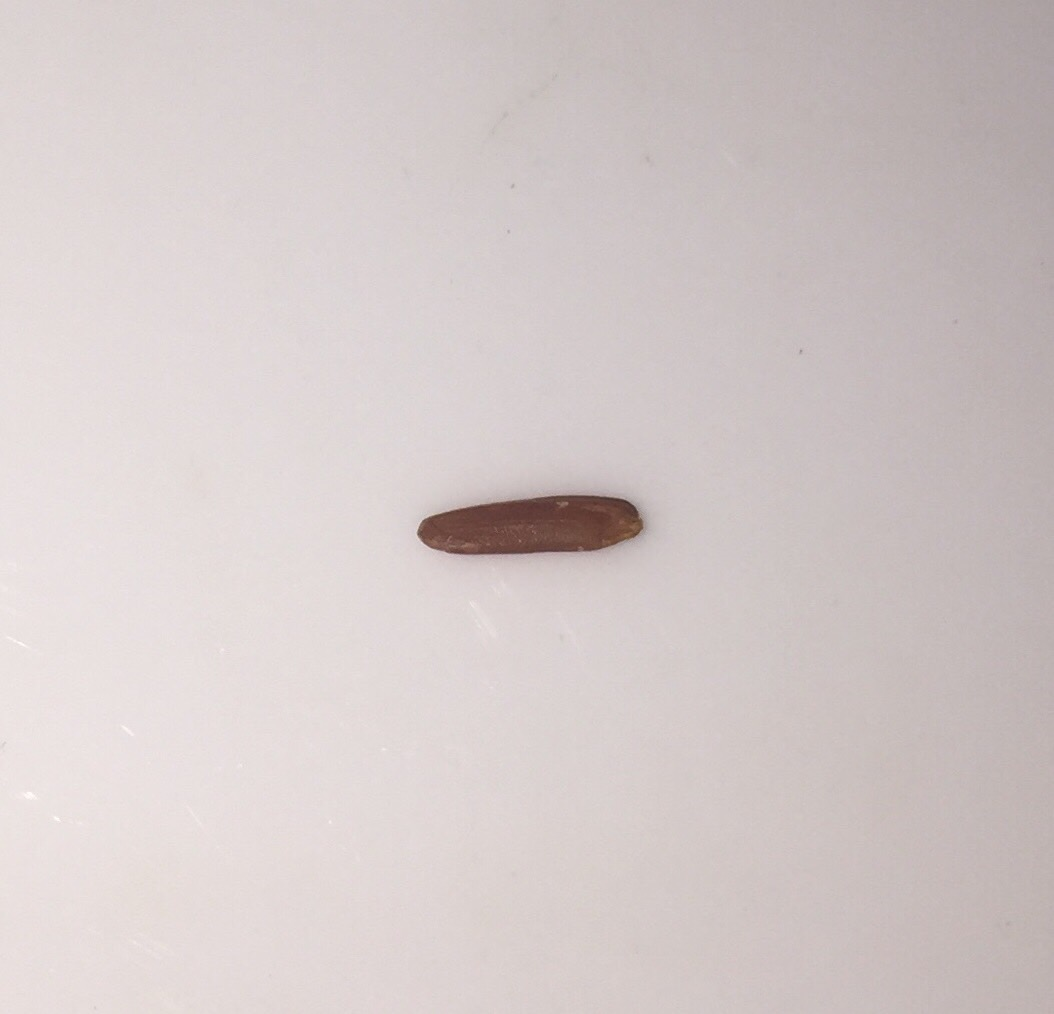Gao Huyet Rong: (412, 485, 646, 582)
